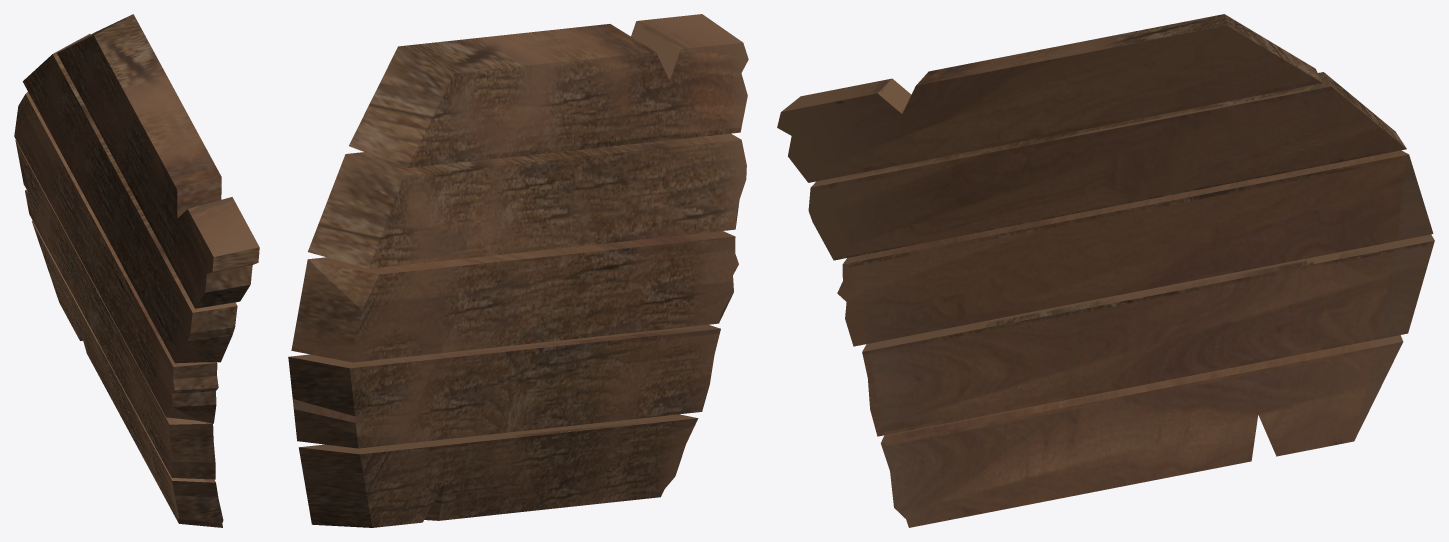
The model's file is shields.glb.
The picture shows the model from 3 angles, left to right: view 1: azimuth 30°, elevation 25°; view 2: azimuth 150°, elevation 25°; view 3: azimuth 270°, elevation 25°; orthographic projection. The views are drawn at different scales.
Parts seen in each view (by area): view 1: shield.safeshield; view 2: shield.safeshield; view 3: shield.safeshield.
Boxes of the visible parts, x1=… form: shield.safeshield: x1=14, y1=14, x2=259, y2=527; shield.safeshield: x1=288, y1=14, x2=748, y2=527; shield.safeshield: x1=777, y1=14, x2=1434, y2=527.
Size of the model in its own units: 1.25 by 4.14 by 4.71.
1 material, 1 textured.
